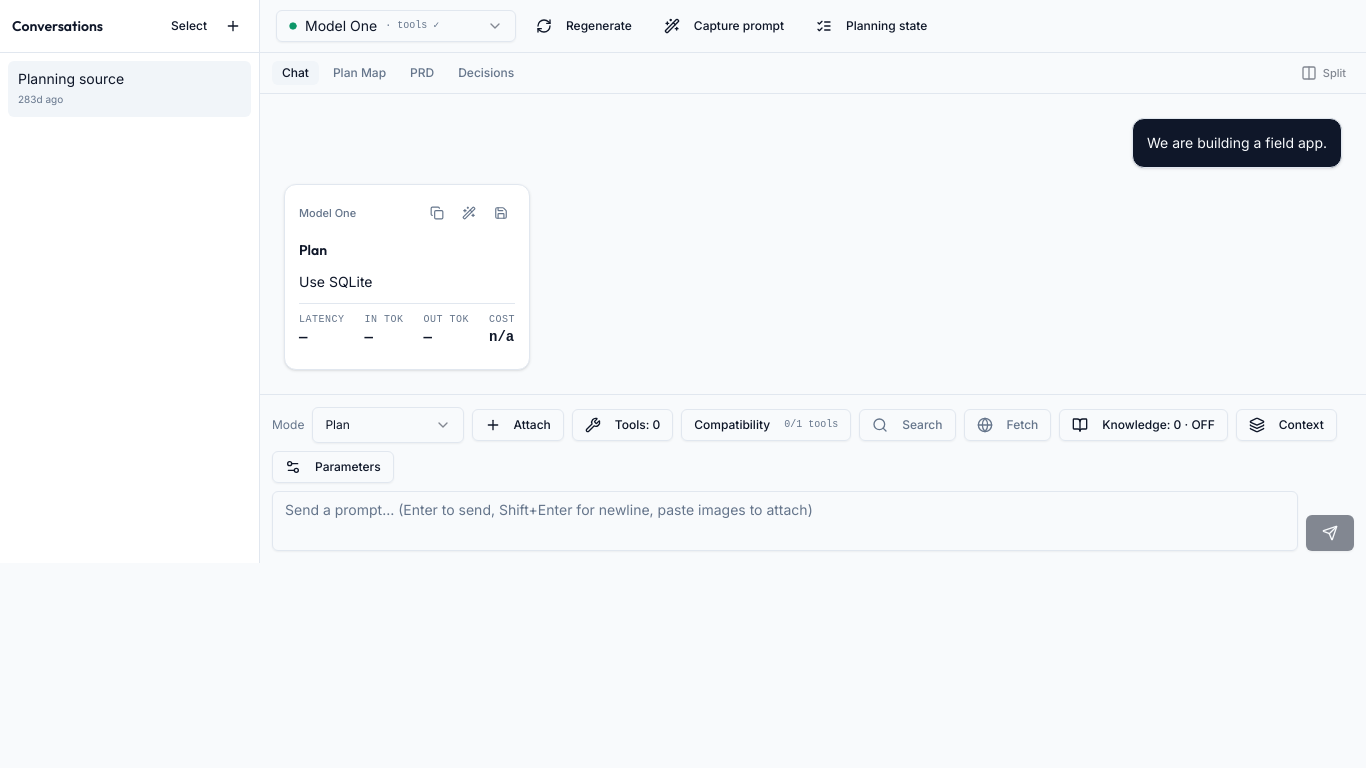
Test: selecting the PRD tab renders the PRD view and hides the composer
Click the button with test id "workspace-plan-tab-prd" at [422, 73], box [400,61,444,85]
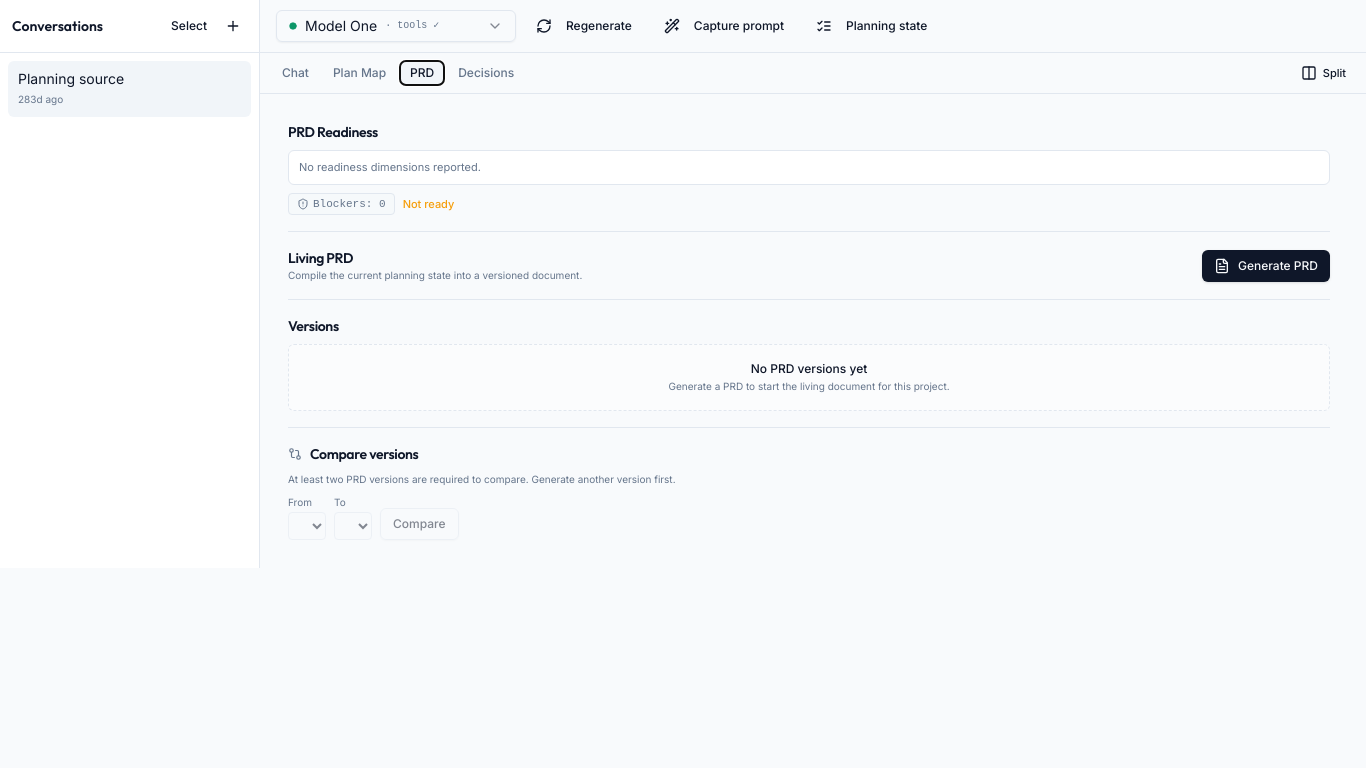
Result: the element with test id "workspace-plan-prd" is shown at [260,94,1365,568]
Result: the element with test id "prd-view" is shown at [284,118,1342,544]
Result: the element with test id "prd-empty" is shown at [288,344,1330,411]
